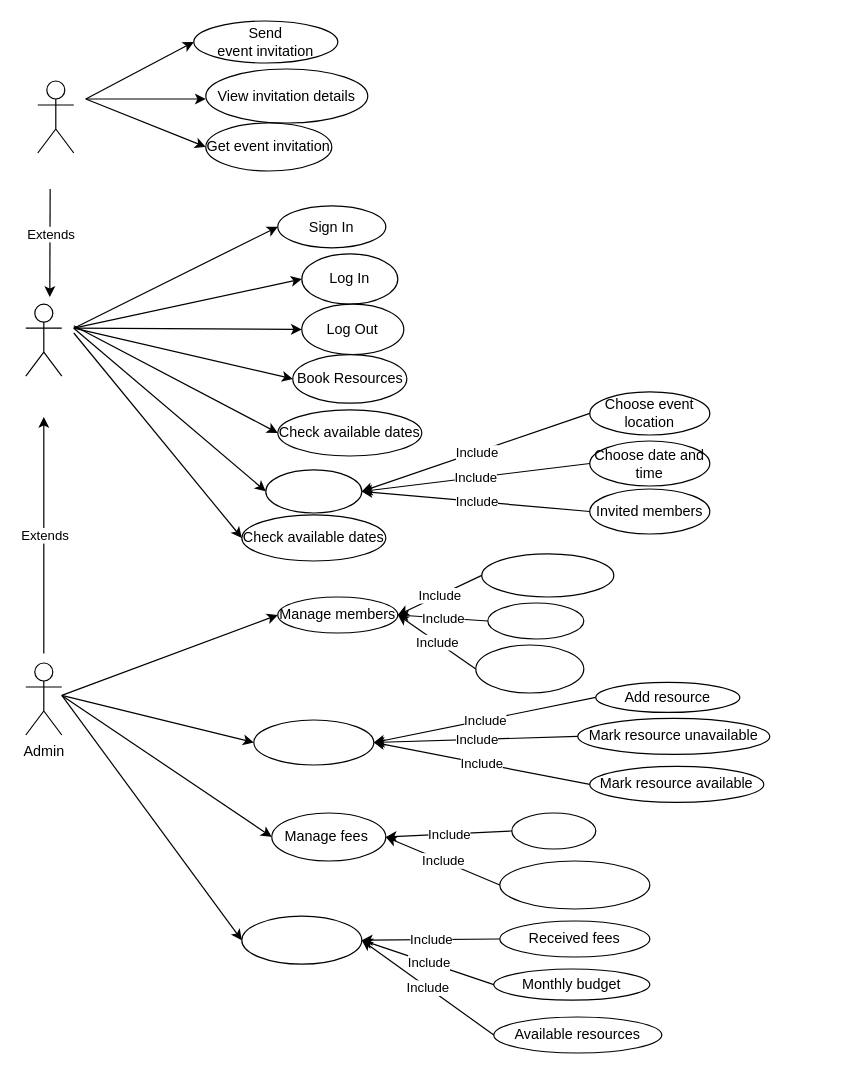
This 863x1074 diagram has some shape labels left out. Each missing label, with the centre of its shape:
Add fee: the point at 553,830
Add member: the point at 535,620
Calculate sum of all fees: the point at 574,884
Create event: the point at 313,491
Delete members: the point at 547,575
Edit member: the point at 529,668
Manage resources: the point at 313,742
Member: the point at 55,116
Report management: the point at 301,939
User: the point at 43,339
